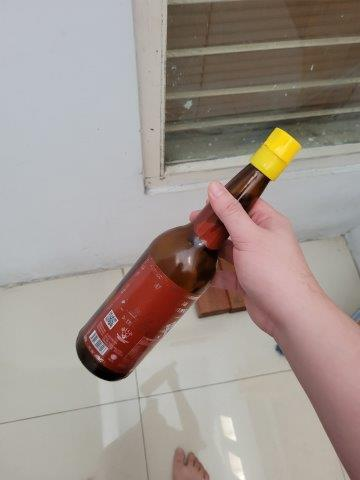botolkaca: (76, 125, 302, 380)
